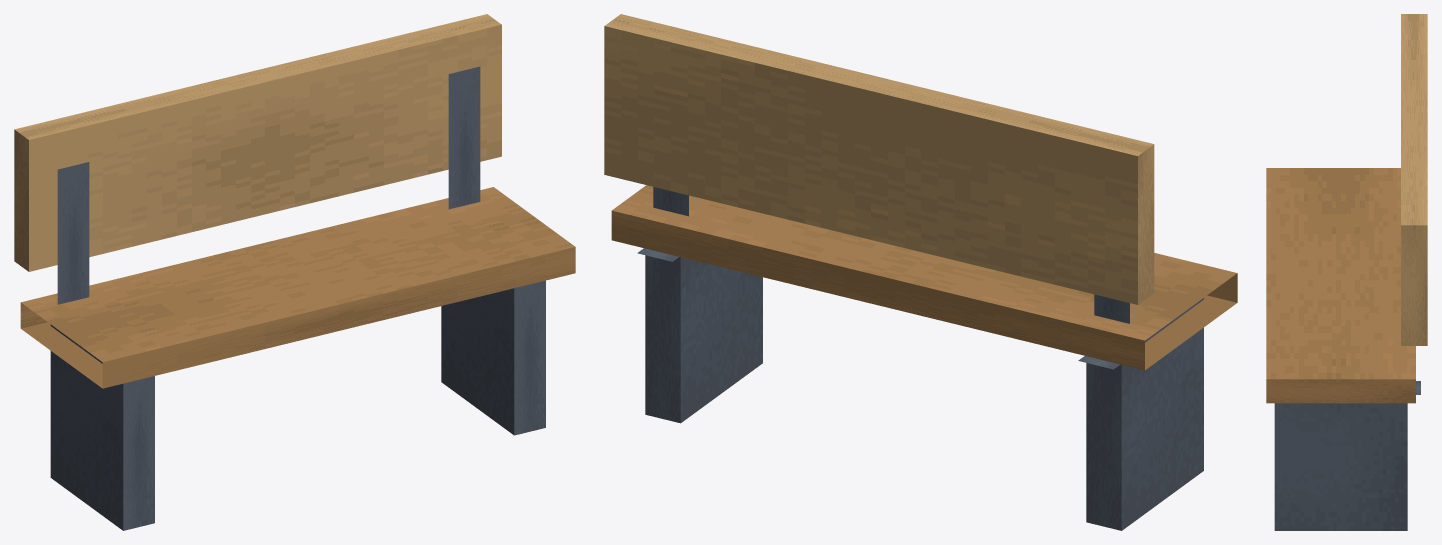
File: prop_bench.glb
3 renders of one model, left to right at view 1: azimuth 30°, elevation 25°; view 2: azimuth 150°, elevation 25°; view 3: azimuth 270°, elevation 25°, orthographic. The views are drawn at different scales.
Parts seen in each view (by area): view 1: prop_bench; view 2: prop_bench; view 3: prop_bench.
Boxes of the visible parts, left/top/right/bottom form: prop_bench: left=14, top=14, right=575, bottom=530; prop_bench: left=604, top=14, right=1237, bottom=530; prop_bench: left=1266, top=14, right=1427, bottom=530.
Size of the model in its own units: 1.5 by 1.05 by 0.485.
1 material, 1 textured.
